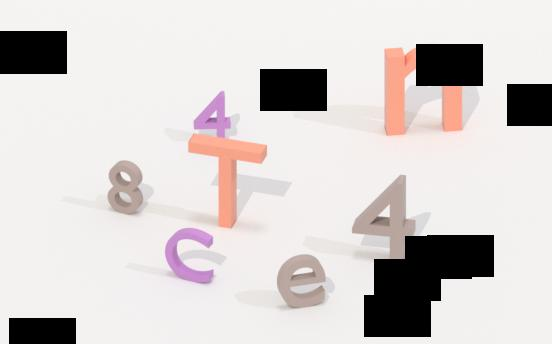4: (352, 169, 413, 260), (192, 89, 234, 144)
8: (105, 157, 150, 218)
c: (159, 227, 225, 283)
e: (274, 250, 330, 311)
n: (380, 42, 466, 137)
t-hoa: (186, 130, 270, 229)
